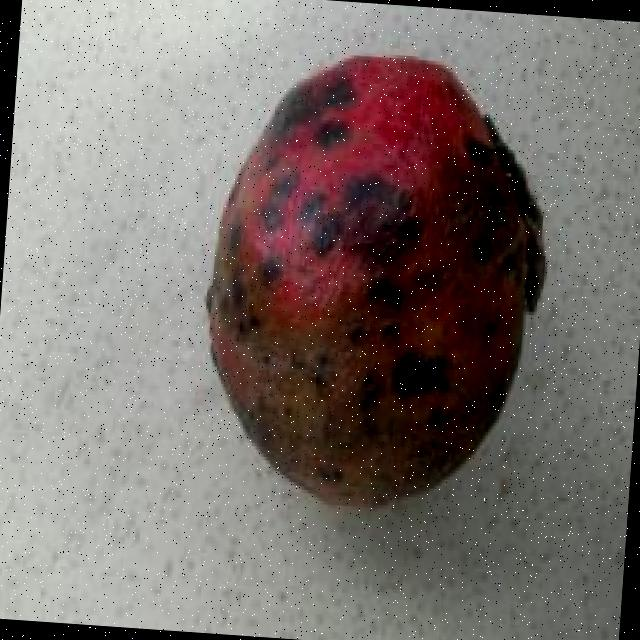overripe: (186, 36, 564, 525)
